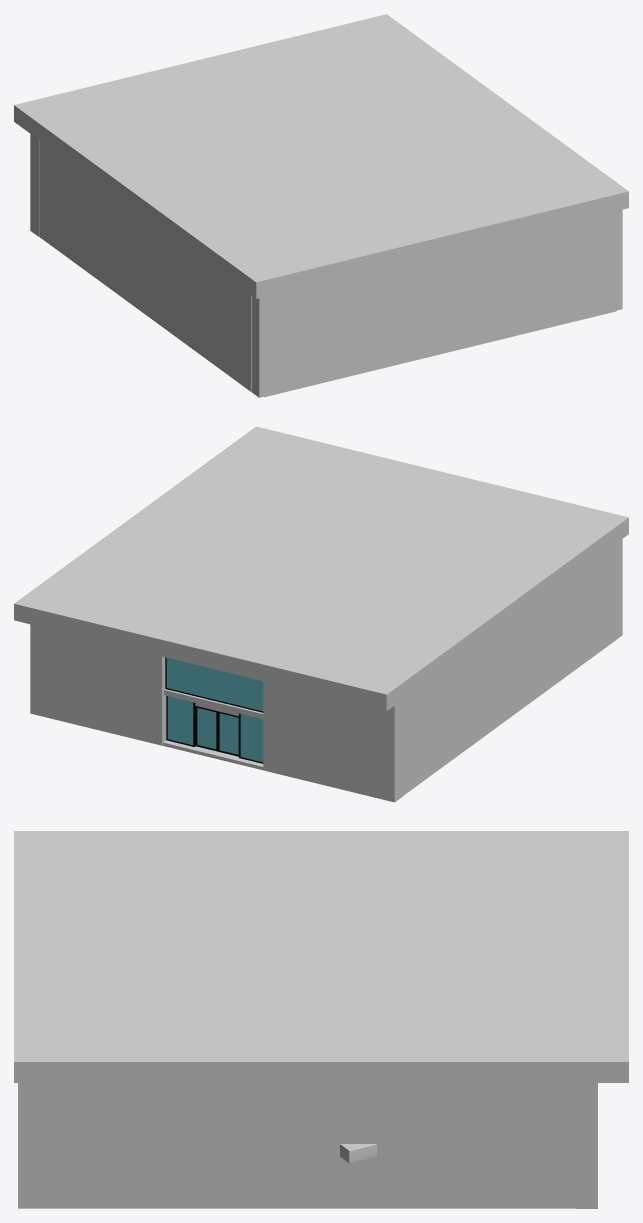
Rendered from Hameentie135D_test1.fbx.
3 views of the same model, one above another, from view 1: azimuth 30°, elevation 25°; view 2: azimuth 150°, elevation 25°; view 3: azimuth 270°, elevation 25° (orthographic). The views are drawn at different scales.
Parts seen in each view (by area): view 1: Ceiling, Wall2, Wall1, Wall3; view 2: Ceiling, Wall3, Wall1, Window, Doors1, Doors9, Wall2, Floor, CeilingSupport6; view 3: Ceiling, Wall1, Wall3, Wall2, pCube69.
Boxes of the visible parts, <box> form: Ceiling: <box>14,14,628,298</box>; Wall2: <box>252,209,622,397</box>; Wall1: <box>39,140,251,392</box>; Wall3: <box>30,134,39,236</box>; Ceiling: <box>14,426,628,711</box>; Wall3: <box>30,624,403,802</box>; Wall1: <box>403,544,615,795</box>; Window: <box>165,657,263,712</box>; Doors1: <box>166,696,263,763</box>; Doors9: <box>195,706,238,756</box>; Wall2: <box>615,539,622,639</box>; Floor: <box>162,740,263,770</box>; CeilingSupport6: <box>164,689,263,719</box>; Ceiling: <box>14,831,628,1082</box>; Wall1: <box>36,1083,575,1208</box>; Wall3: <box>575,1083,597,1208</box>; Wall2: <box>18,1083,36,1208</box>; pCube69: <box>340,1144,376,1163</box>.
Bounding box in the file's own units: 2822 × 844 × 3121.
